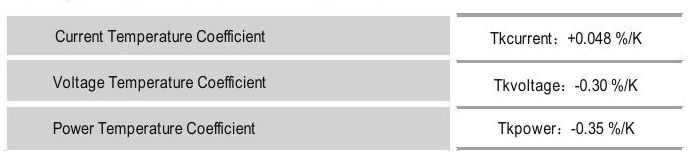table: (2, 10, 692, 153)
table column: (13, 14, 449, 152), (465, 14, 680, 149)
table row: (10, 63, 684, 106), (10, 18, 684, 57), (8, 110, 685, 145)
